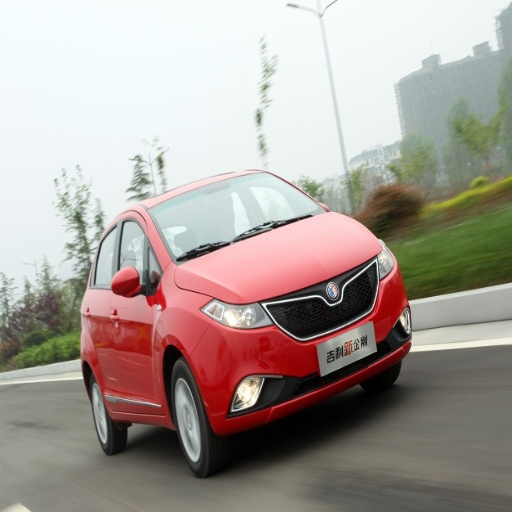front_bumper: (193, 256, 409, 433)
front_right_door: (110, 209, 159, 405)
front_right_light: (202, 297, 264, 330)
